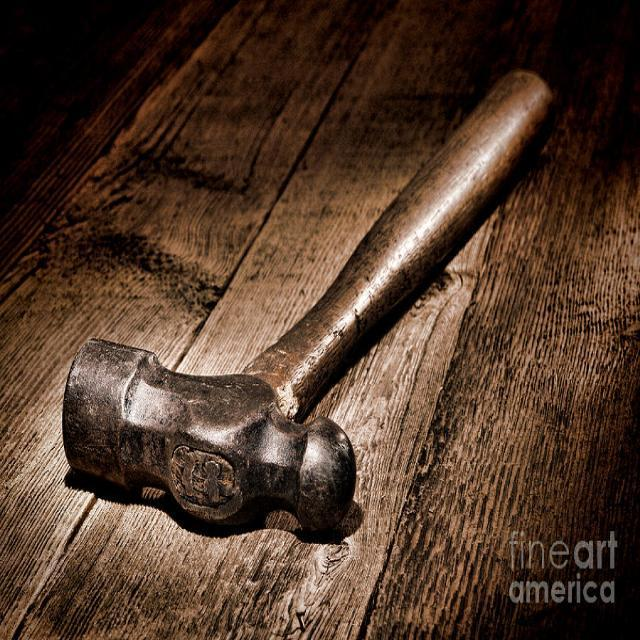hammer: (55, 51, 562, 552)
